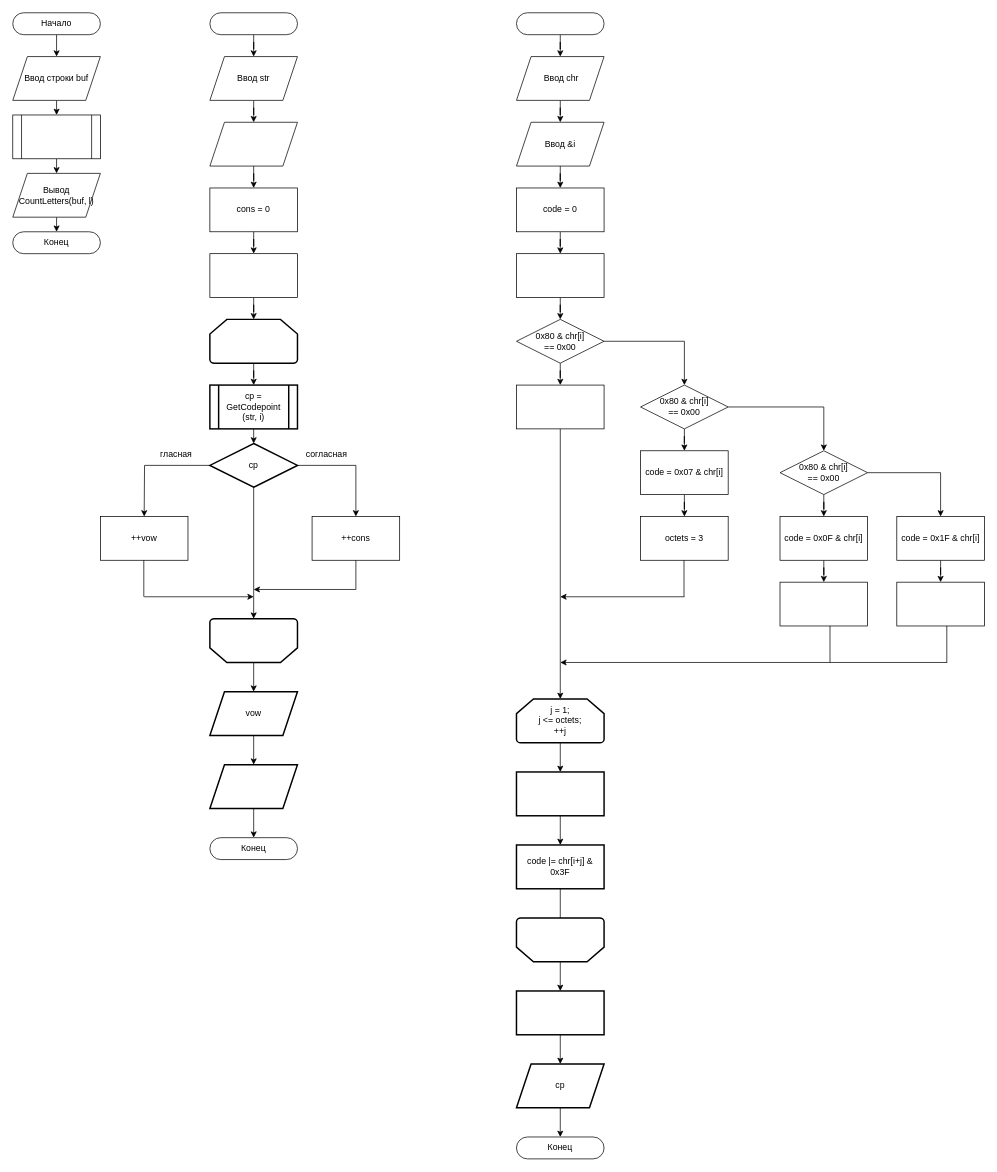
The diagram is 997 pixels wide and 1172 high, and some of its shapes have lost their labels. The shapes that lost their labels are listed below. From the top down, each one's centre as x and y in pixels, then its label:
At point 253,23: "CountLetters".
At point 560,23: "GetCodepoint".
At point 56,136: "l = strlen(buf)".
At point 253,144: "Ввод len".
At point 253,275: "vow = 0".
At point 560,275: "octets = 0".
At point 253,341: "i = 0; i < len".
At point 560,406: "code = chr[i]".
At point 823,603: "octets = 2".
At point 940,603: "octets = 1".
At point 253,786: "cons".
At point 559,793: "code <<= 6".
At point 559,1012: "i += octets + 1".
